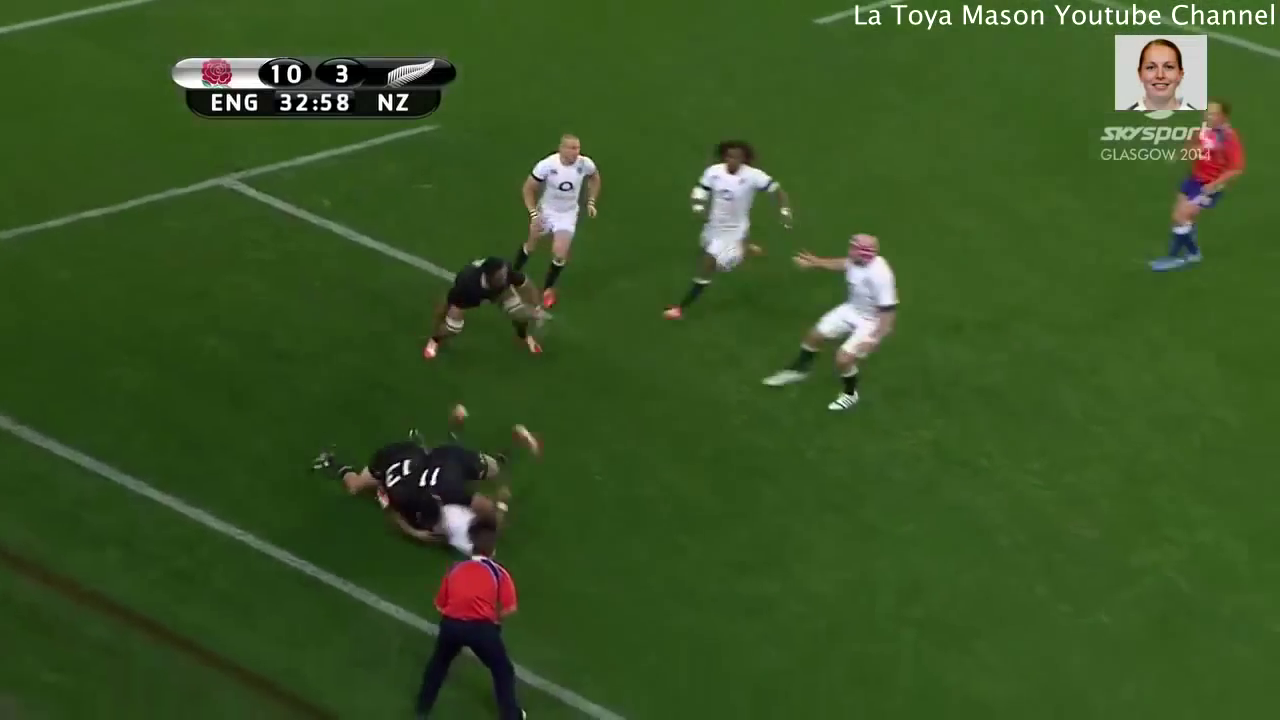player: (754, 221, 913, 420), (654, 132, 799, 327), (411, 511, 541, 720), (511, 122, 610, 317), (416, 246, 550, 362), (403, 408, 560, 502)
ruck: (303, 403, 568, 547)
